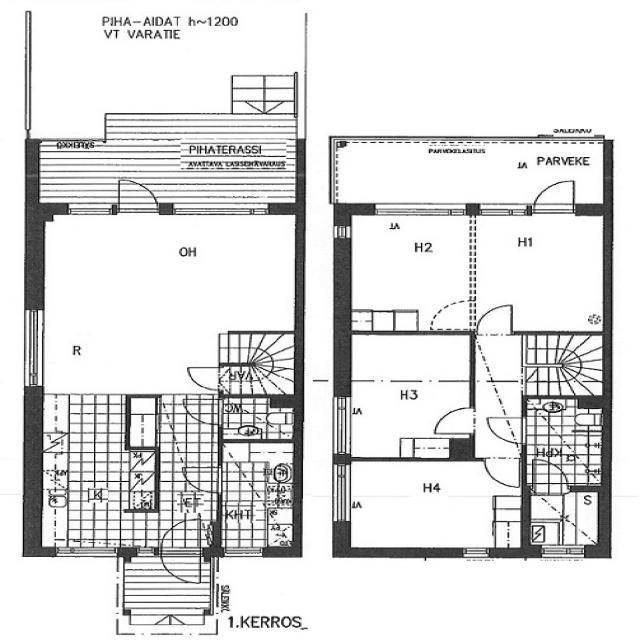door: (356, 394, 484, 451), (430, 407, 527, 441), (530, 175, 582, 216), (111, 174, 164, 214), (426, 403, 480, 438), (427, 296, 482, 330), (473, 300, 521, 336), (479, 455, 524, 490), (158, 550, 202, 584), (484, 414, 528, 446), (182, 364, 224, 392), (183, 472, 214, 493), (185, 403, 212, 425)
window: (17, 302, 50, 392), (367, 199, 476, 219), (328, 458, 357, 530), (327, 392, 357, 461), (173, 203, 273, 220), (52, 544, 123, 560), (534, 542, 590, 562), (473, 200, 530, 219), (64, 202, 119, 218), (218, 545, 270, 560), (456, 545, 497, 561), (332, 222, 356, 242)
zone: (38, 211, 303, 335), (343, 211, 602, 331), (342, 458, 524, 554), (344, 375, 473, 460), (220, 440, 296, 553), (525, 399, 606, 487), (345, 334, 476, 381), (218, 395, 298, 441), (124, 392, 161, 448)
